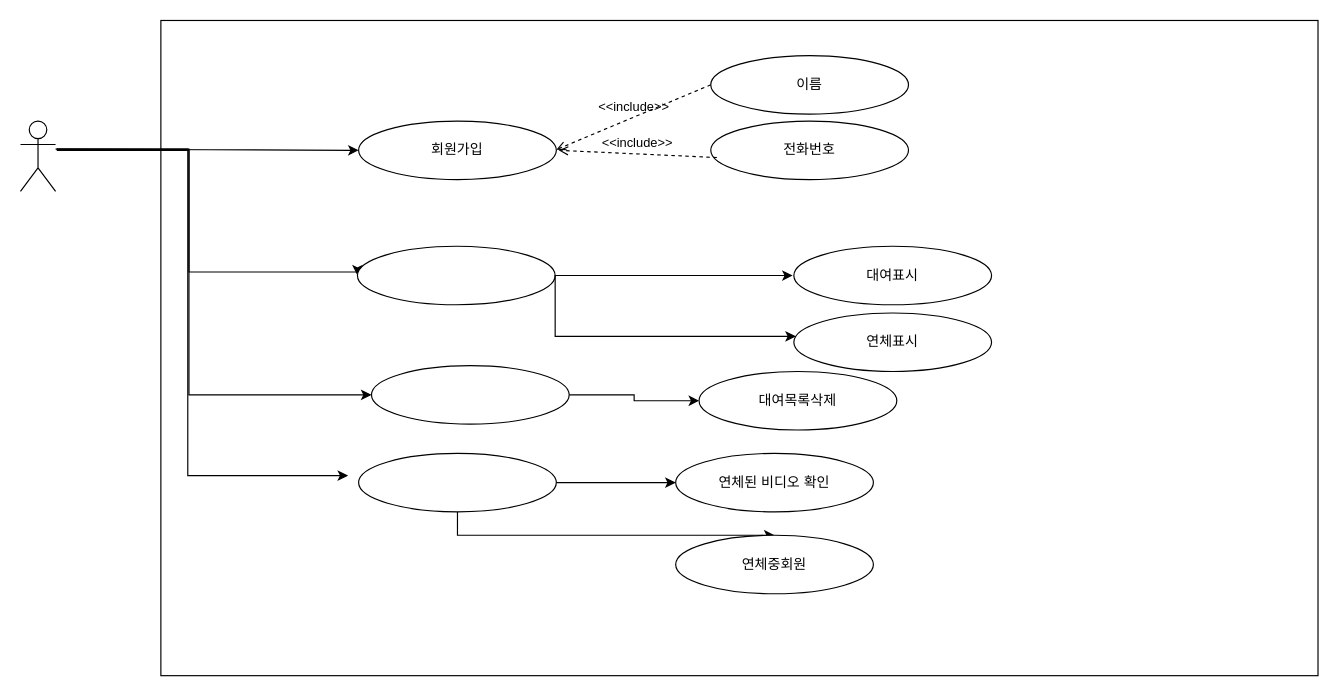
The diagram is 1338 pixels wide and 696 high, and some of its shapes have lost their labels. Each missing label, with the centre of its shape:
"대여" goes at (x=455, y=275).
"반납" goes at (x=469, y=394).
"연체" goes at (x=456, y=482).
"회원" goes at (x=37, y=155).
